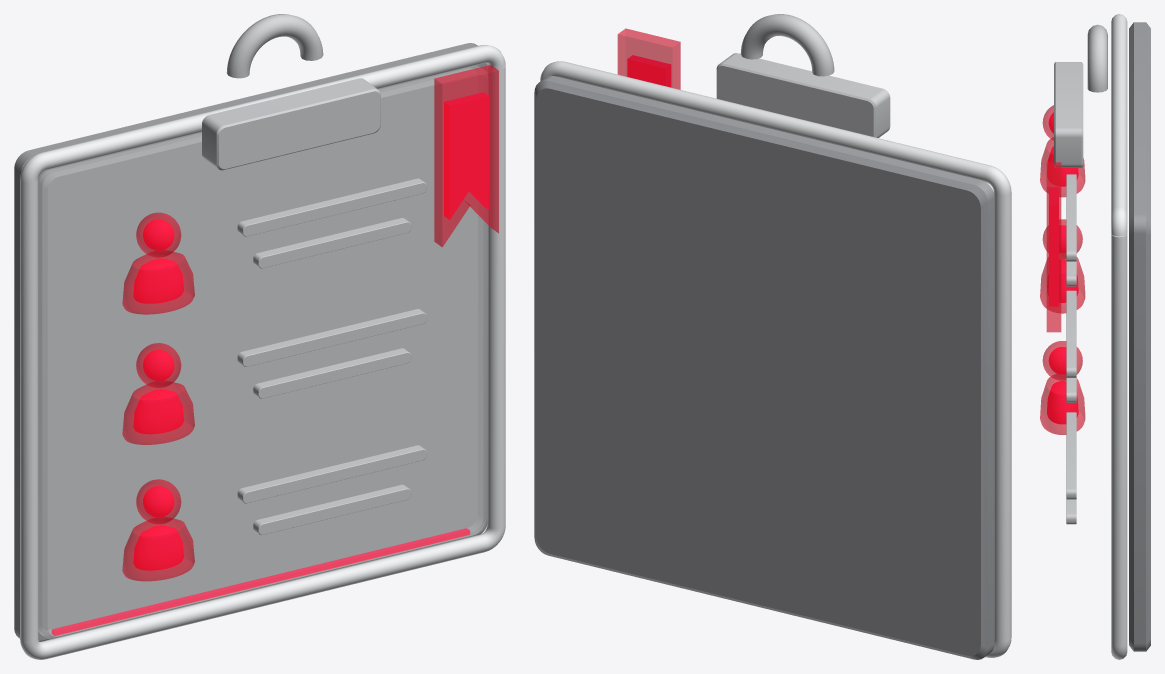
File: 30-registry.glb
3 renders of one model, left to right at view 1: azimuth 30°, elevation 25°; view 2: azimuth 150°, elevation 25°; view 3: azimuth 270°, elevation 25°, orthographic. The views are drawn at different scales.
Parts seen in each view (by area): view 1: BC brushed iron, BC clear optical glass, BC polished iron bevel, BC satin iron, BC ruby optical glass, BC internal ruby light; view 2: BC brushed iron, BC polished iron bevel, BC satin iron, BC ruby optical glass, BC internal ruby light; view 3: BC brushed iron, BC polished iron bevel, BC satin iron, BC ruby optical glass, BC internal ruby light.
Part boxes in pixels (x1,y1,x2,y2): BC brushed iron: (14,43,487,641); BC clear optical glass: (38,65,488,639); BC polished iron bevel: (20,45,505,659); BC satin iron: (202,14,426,535); BC ruby optical glass: (122,65,498,581); BC internal ruby light: (51,92,489,635); BC brushed iron: (534,75,994,659); BC polished iron bevel: (540,61,1011,657); BC satin iron: (716,14,890,137); BC ruby optical glass: (617,28,680,89); BC internal ruby light: (627,55,671,87); BC brushed iron: (1129,22,1150,651); BC polished iron bevel: (1111,14,1127,659); BC satin iron: (1054,24,1107,524); BC ruby optical glass: (1040,105,1085,434); BC internal ruby light: (1047,112,1078,424).
Bounding box in the file's own units: 1.71 × 2.02 × 0.3805.
